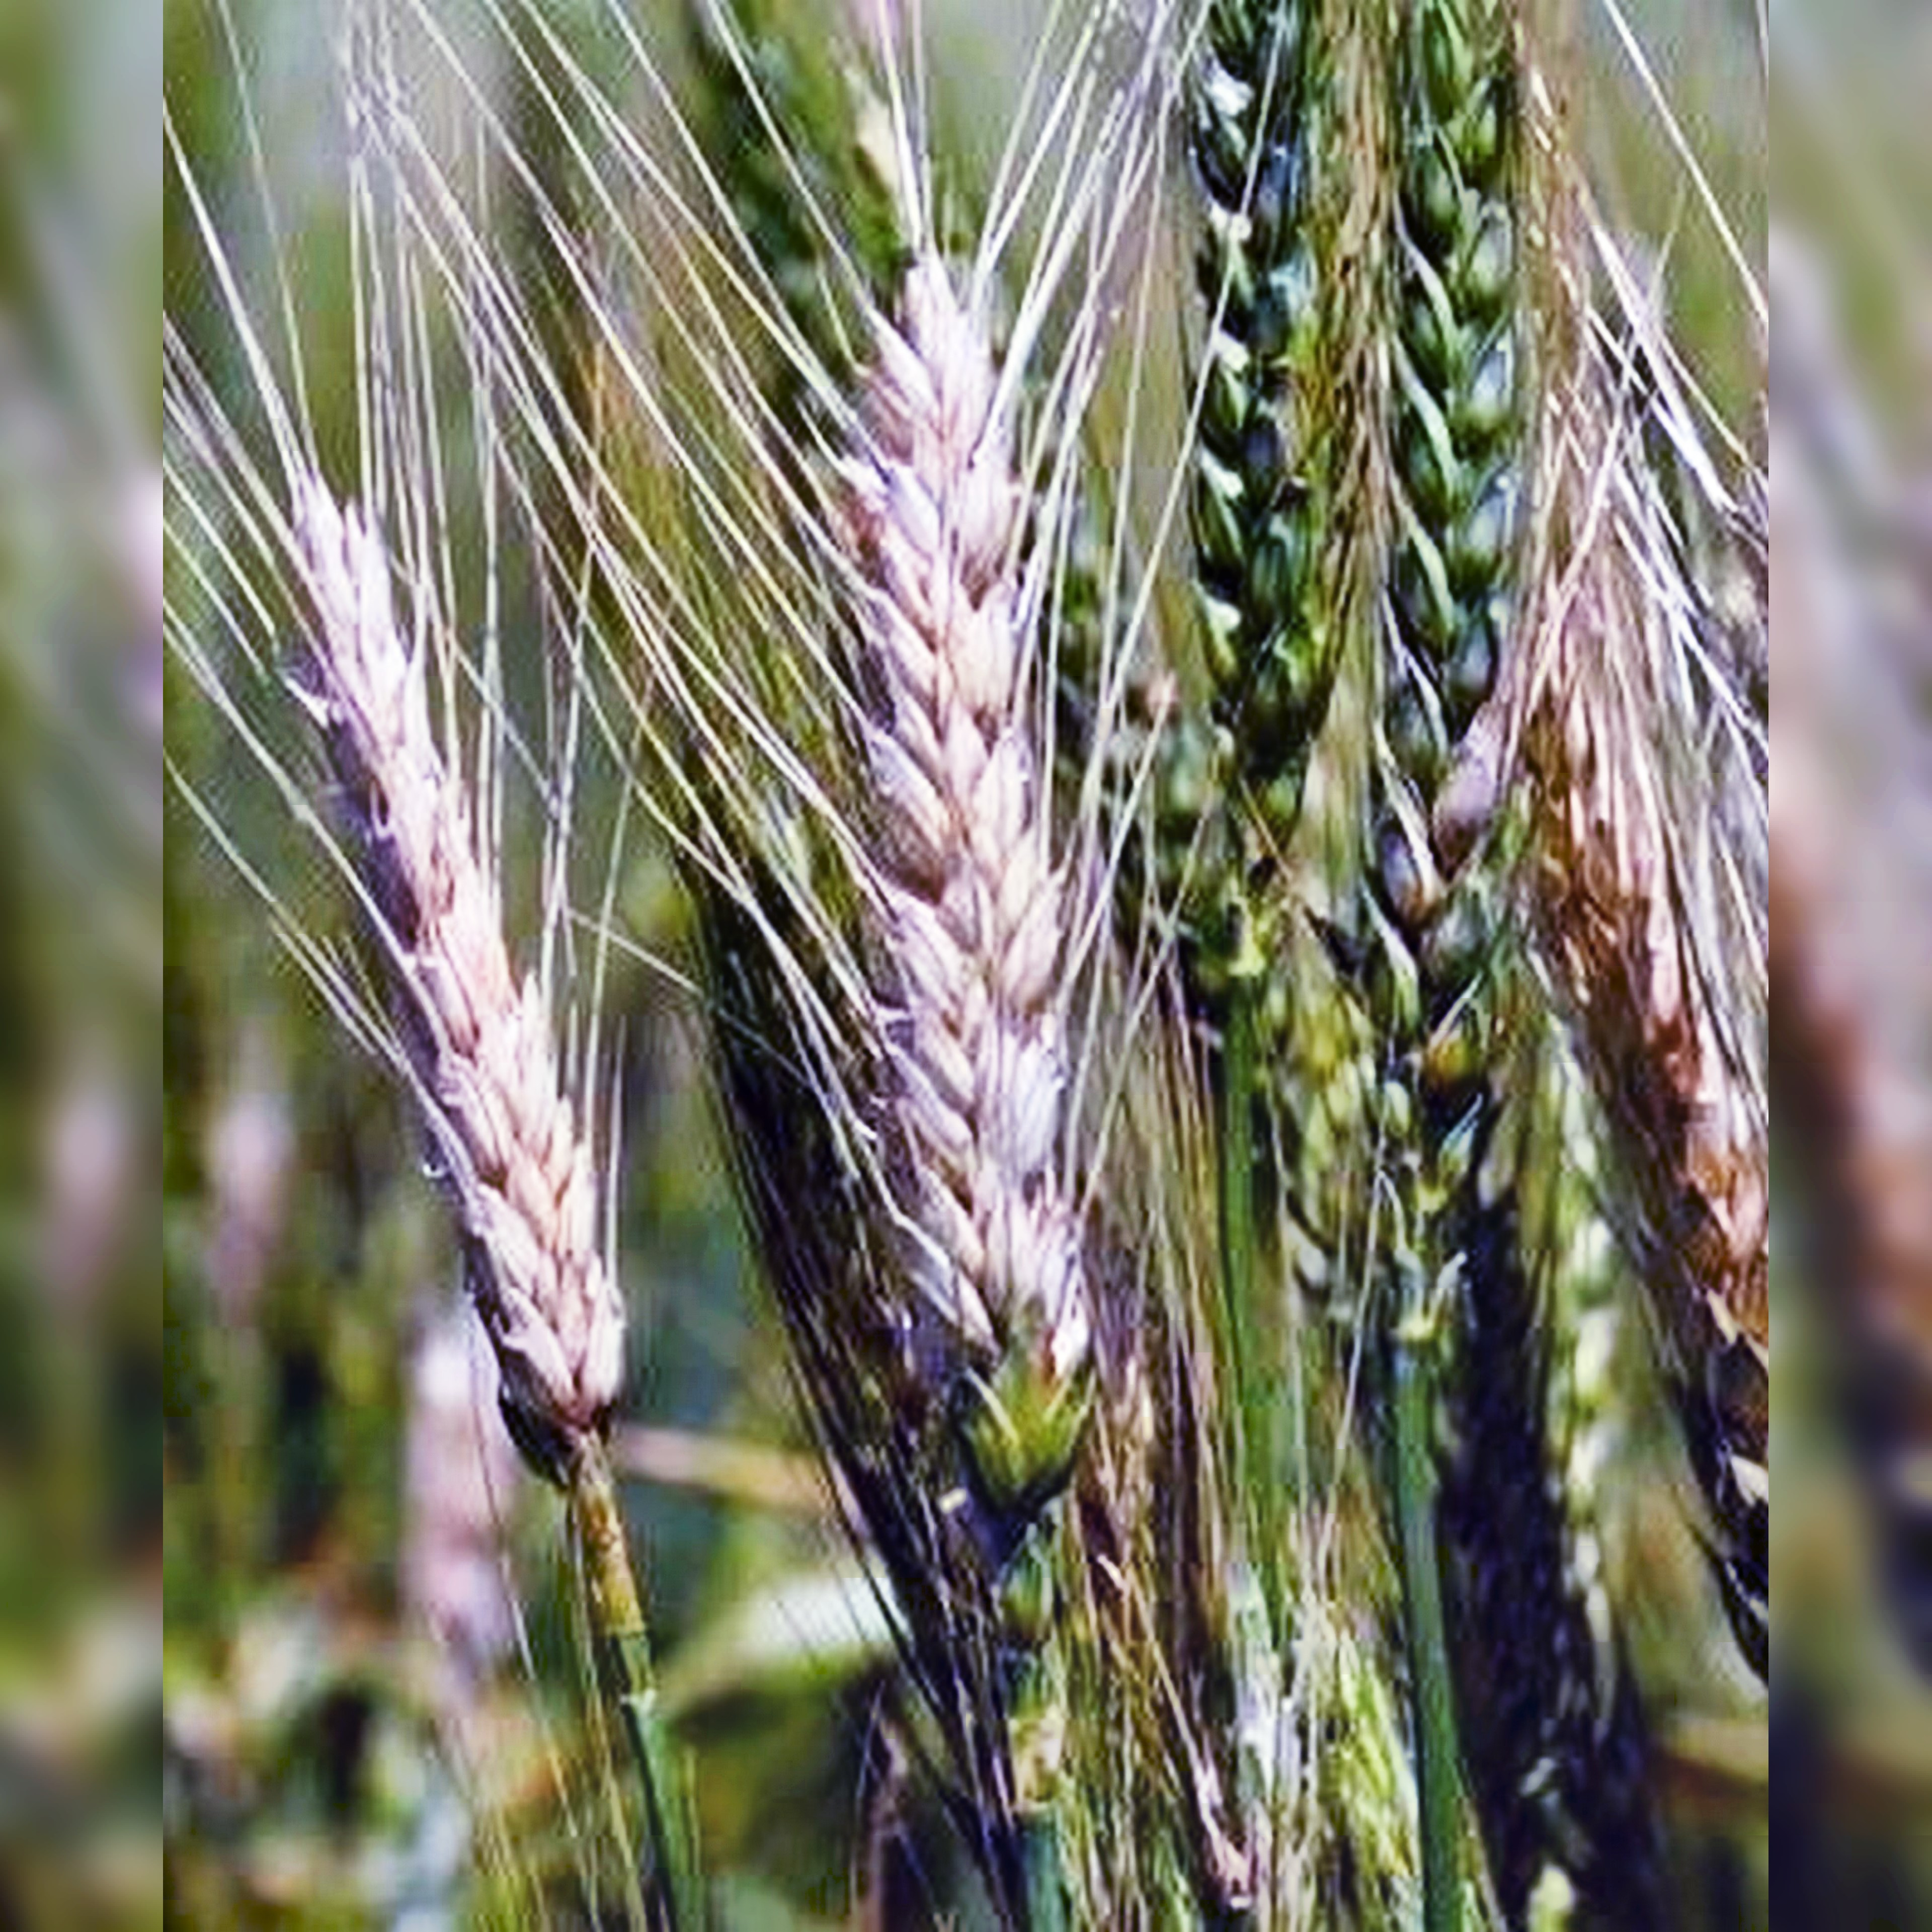Wheat scab: (805, 264, 1115, 1516)
